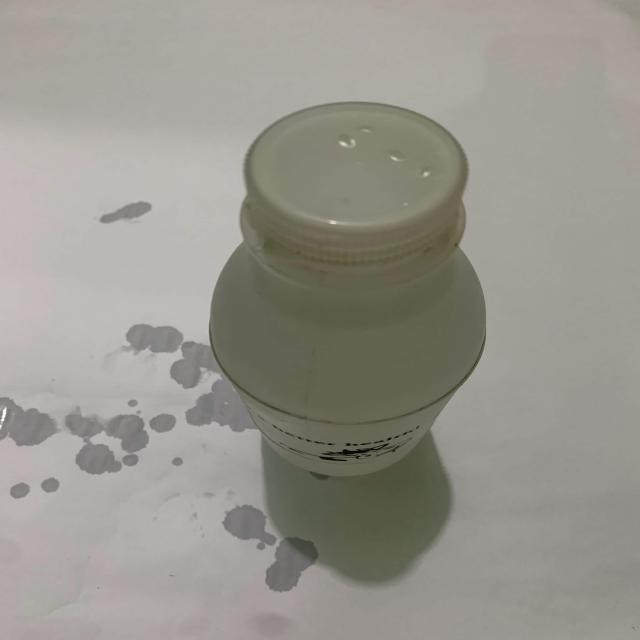empty: (209, 102, 486, 476)
